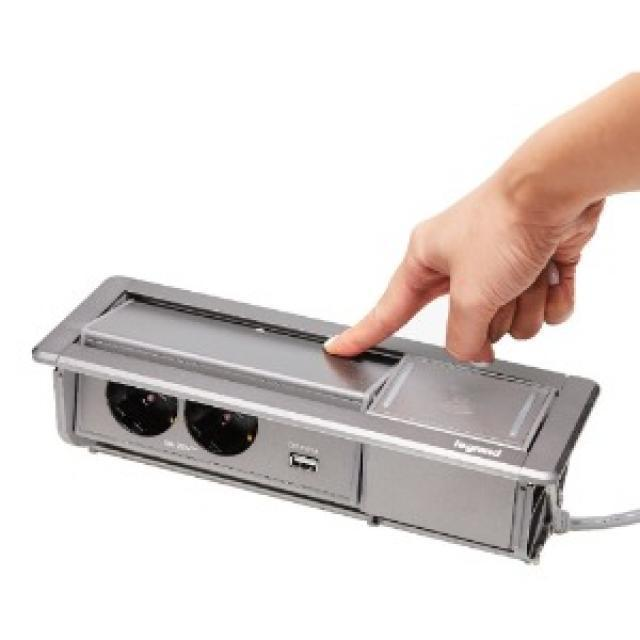typeb: (65, 342, 366, 530)
